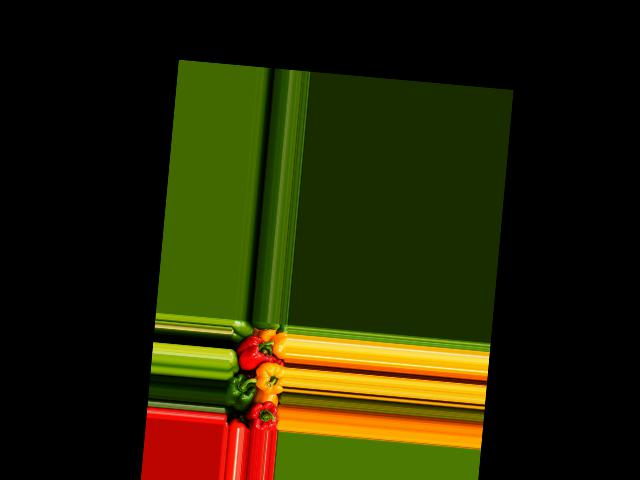bell_pepper: (244, 395, 280, 431)
